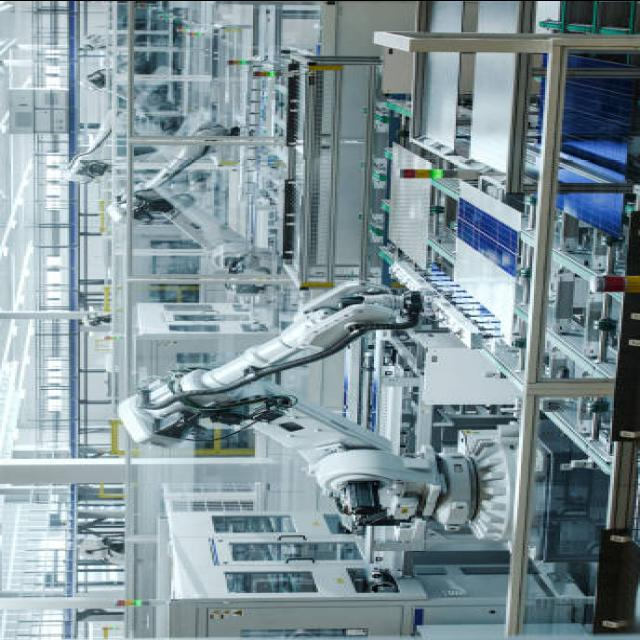Robotic-arm: (112, 277, 526, 540)
